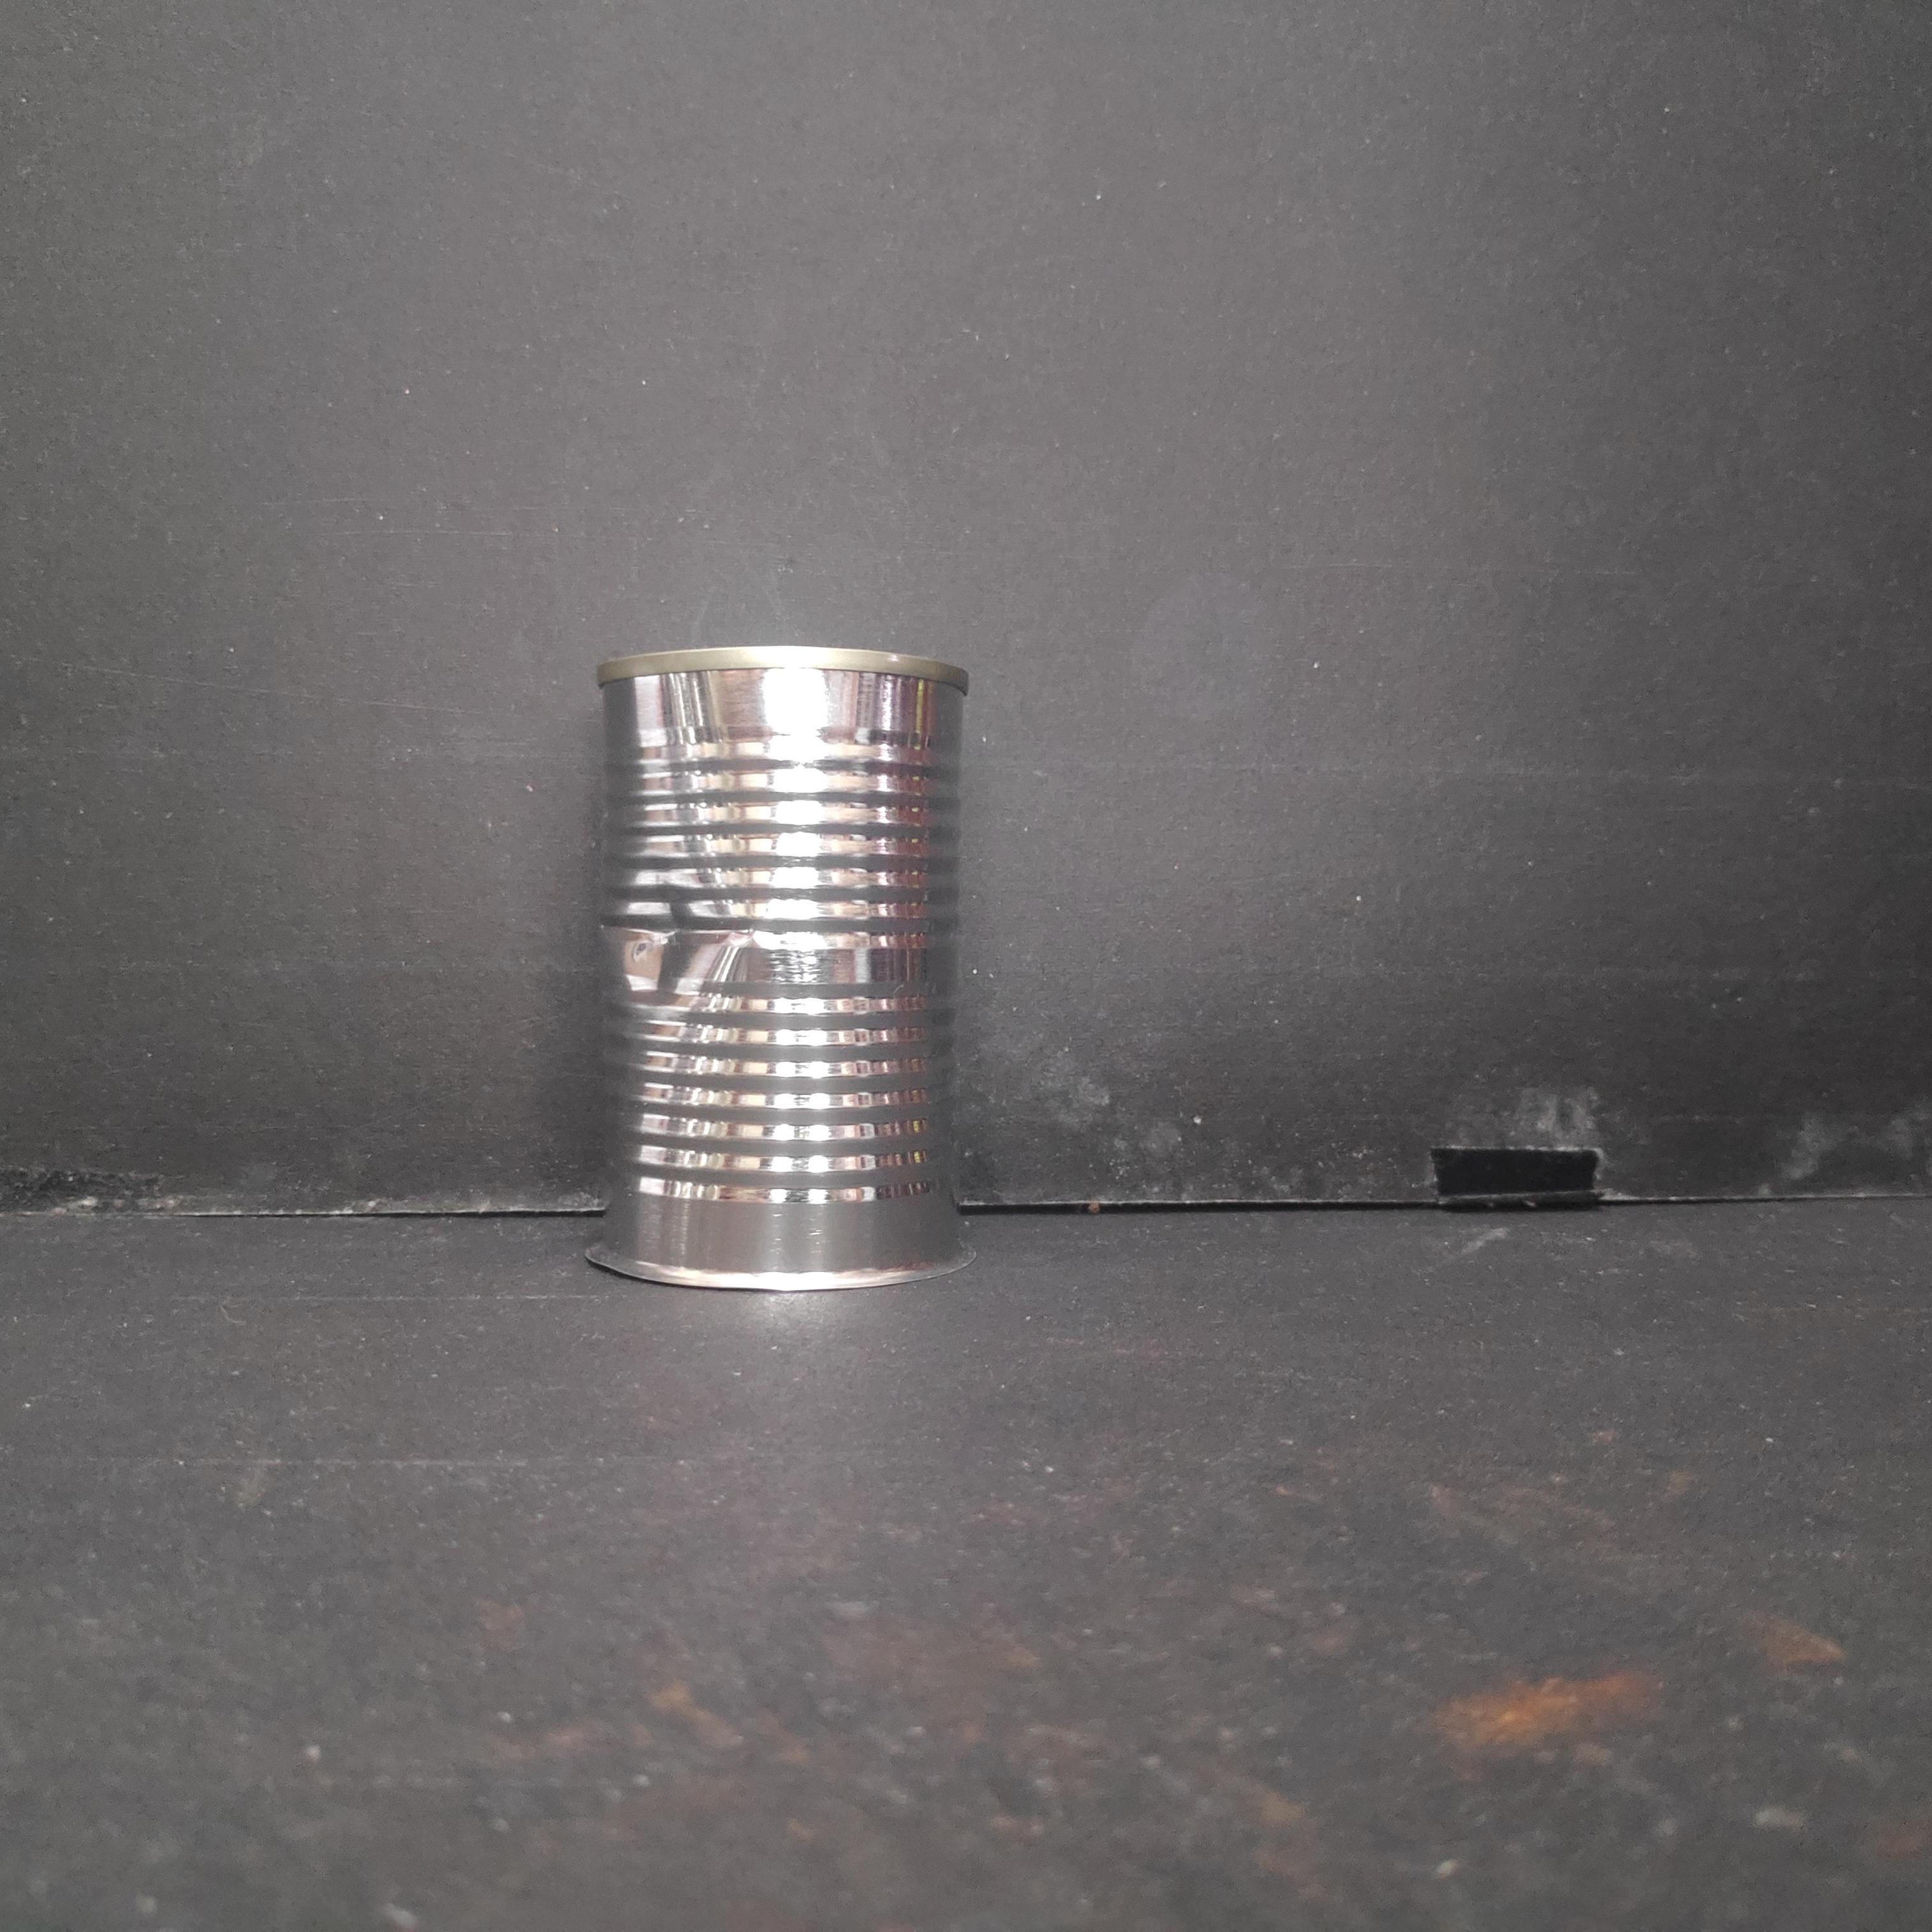Minor Defect: (583, 636, 977, 1300)
